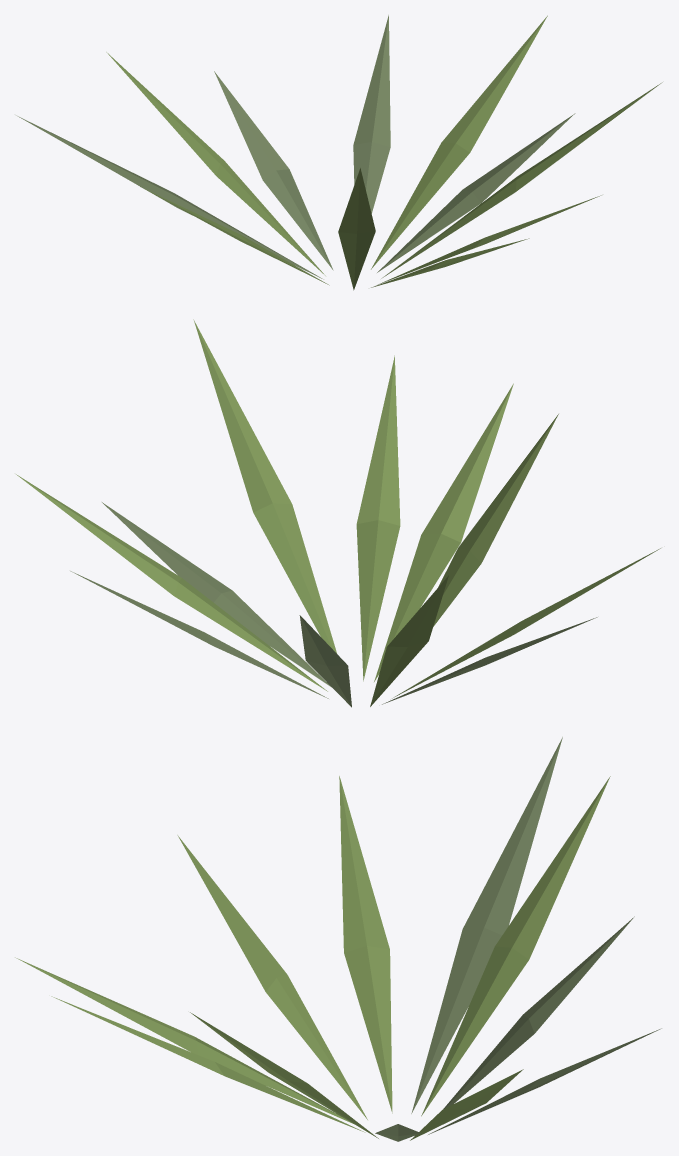
The model's file is Plant_Common_TallGrassFan_001.glb.
3 views of the same model, one above another, from view 1: azimuth 30°, elevation 25°; view 2: azimuth 150°, elevation 25°; view 3: azimuth 270°, elevation 25° (orthographic). The views are drawn at different scales.
Visible parts, largest first — view 1: Plant_Common_TallGrassFan_001; view 2: Plant_Common_TallGrassFan_001; view 3: Plant_Common_TallGrassFan_001.
Part boxes in pixels (left/top/right/bottom): Plant_Common_TallGrassFan_001: left=16, top=15, right=662, bottom=290; Plant_Common_TallGrassFan_001: left=16, top=319, right=660, bottom=707; Plant_Common_TallGrassFan_001: left=15, top=737, right=661, bottom=1141.
Size of the model in its own units: 2.22 by 0.8403 by 1.95.
